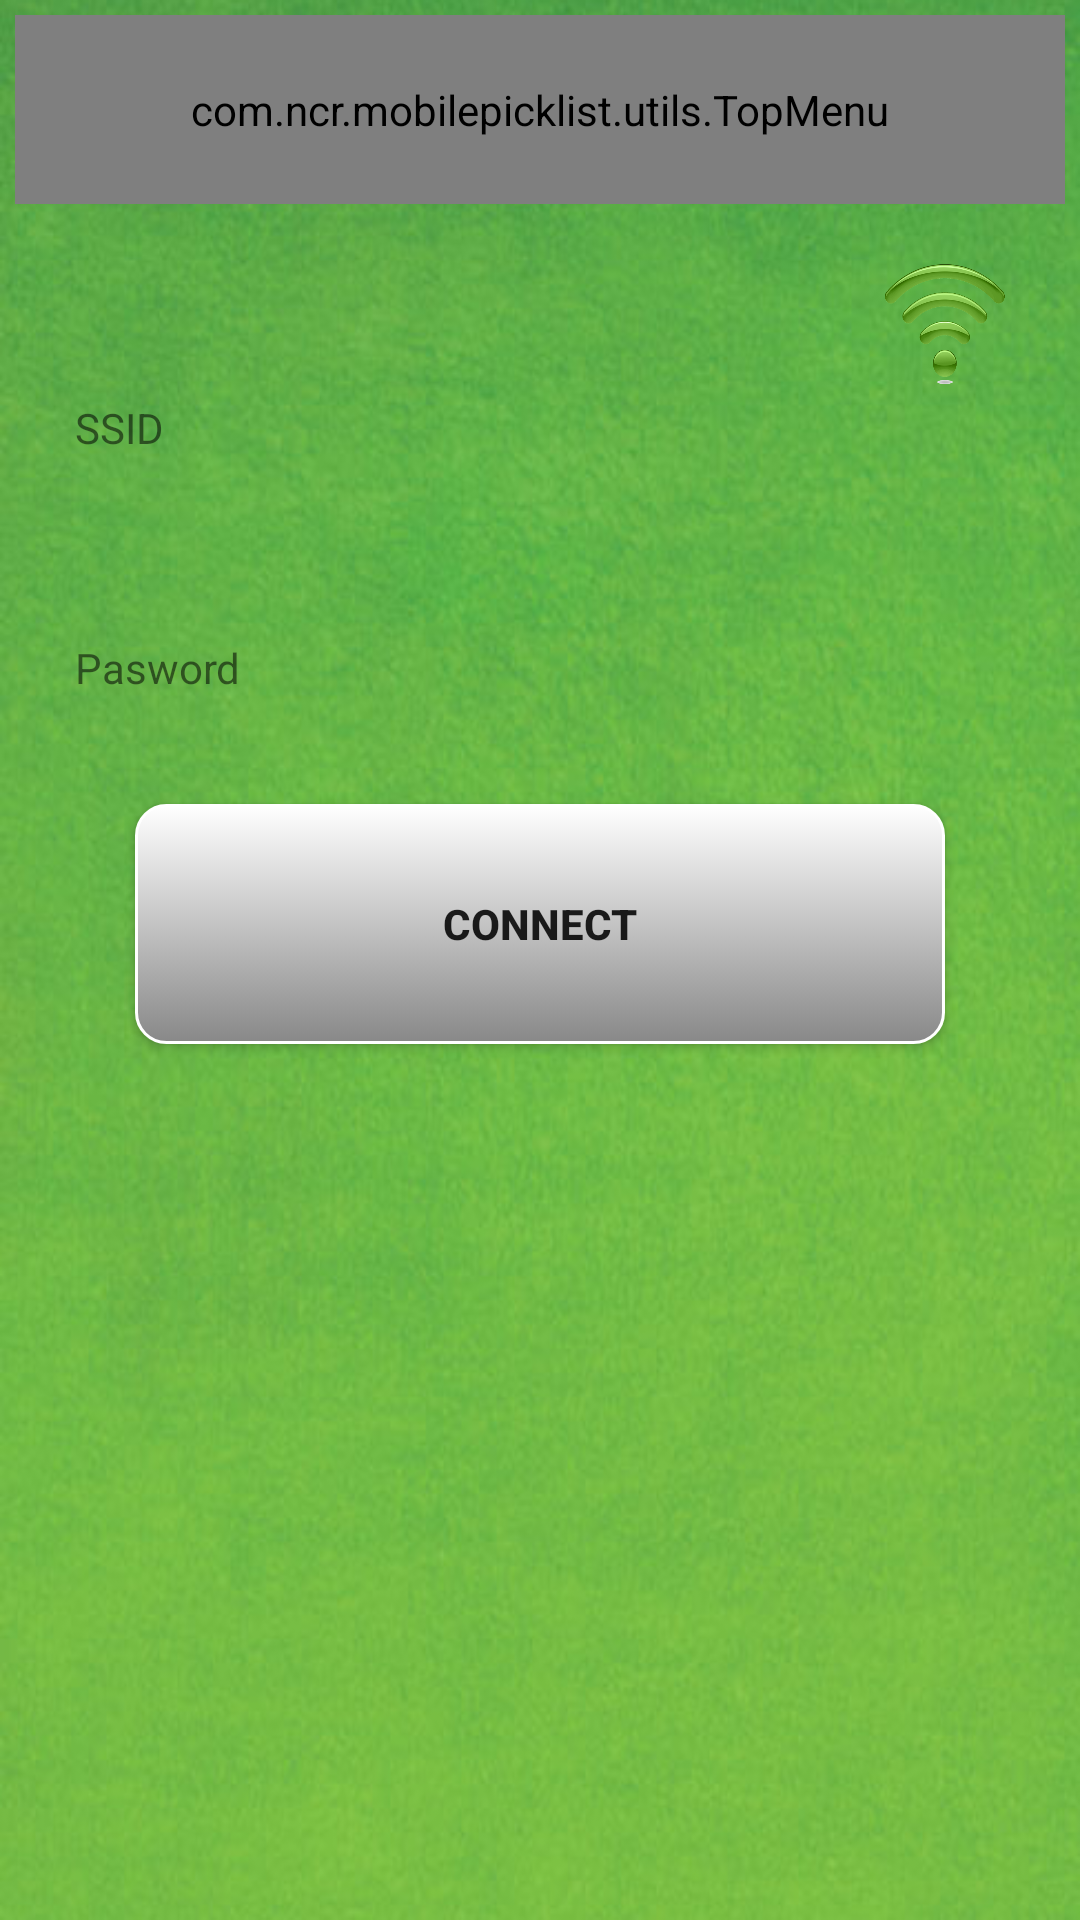

Icons on this 1080w x 1920h Android screen, each with the point to tap as point (x, y):
wifi: point (945, 324)
